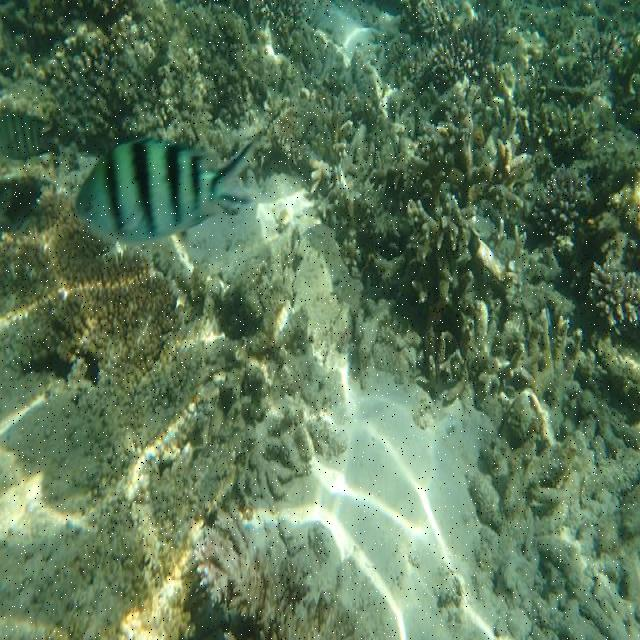fish: (76, 138, 255, 244)
reefs: (1, 191, 190, 395)
